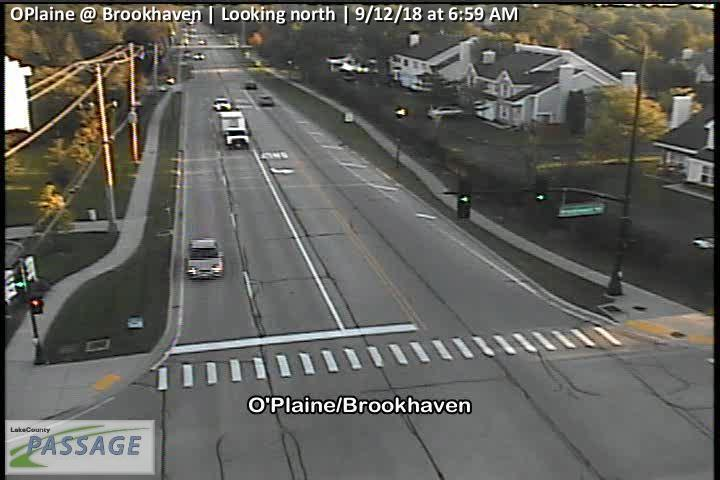Sedan: (184, 234, 223, 279), (212, 97, 231, 110)
Truck: (217, 110, 250, 149)
